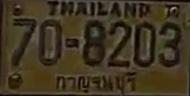0: (38, 19, 62, 65), (133, 22, 155, 66)
2: (108, 20, 130, 66)
3: (158, 21, 180, 66)
7: (11, 17, 36, 66)
8: (82, 19, 105, 65)
KRI: (50, 71, 141, 96)
